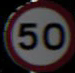Speed limit: (6, 4, 70, 66)
